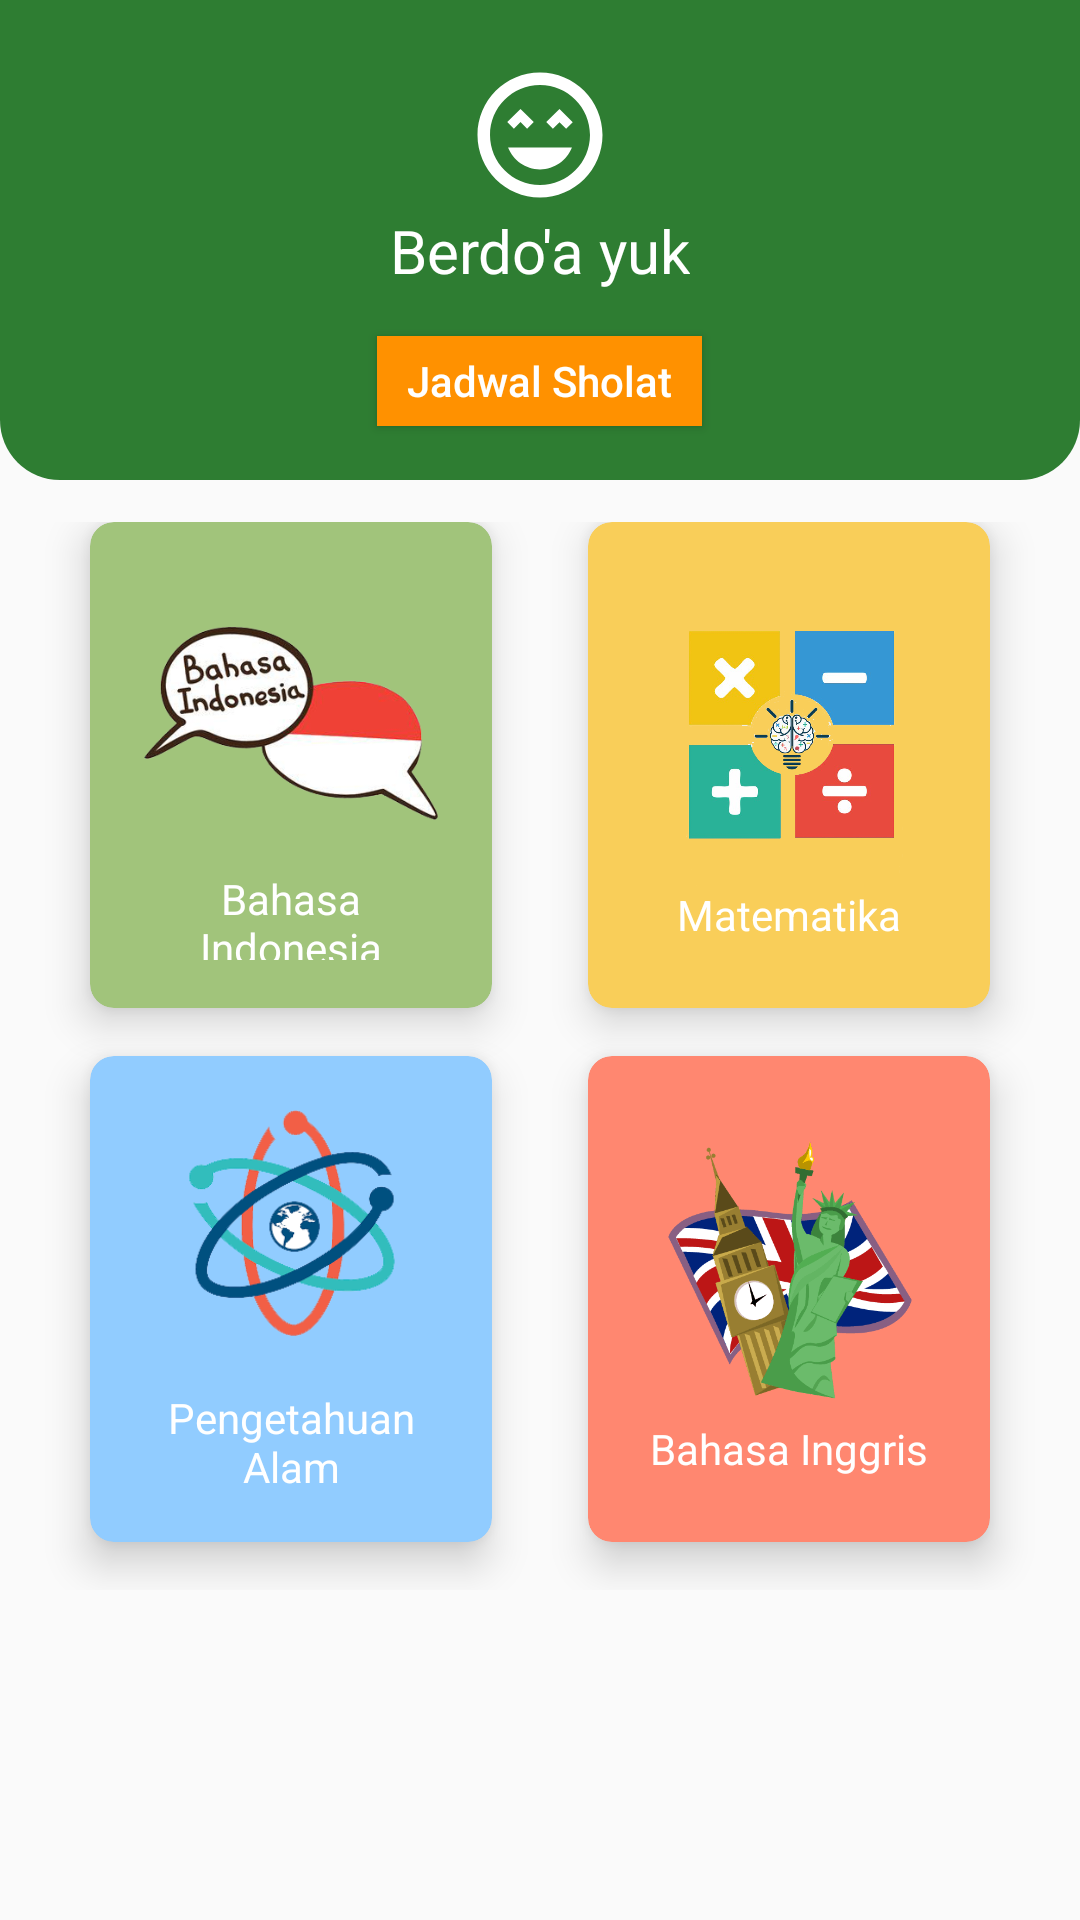

Point at icon controls on the screen. Image size 1080x1920, points as [x,y].
smile: [540,135]
